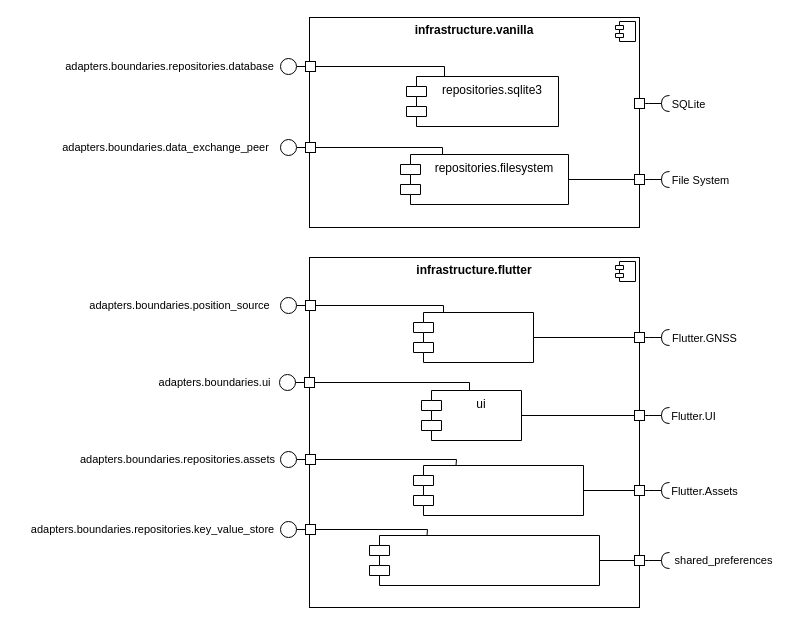
Some shapes in this 789 by 625 pixel diagram are drawn without their labels. The centre of each missing label's shape, as x and y in pixels:
gnss: point (473, 337)
repositories.assets: point (498, 490)
repositories.shared_preferences: point (484, 560)
